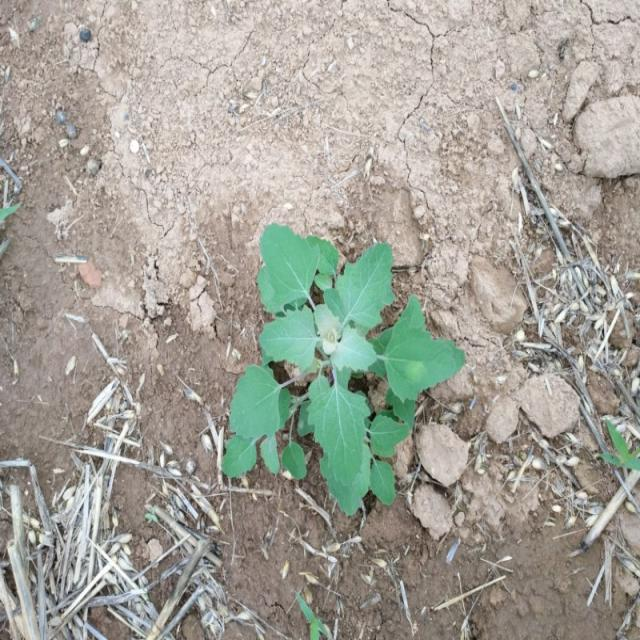goosefoots: (219, 216, 459, 487)
